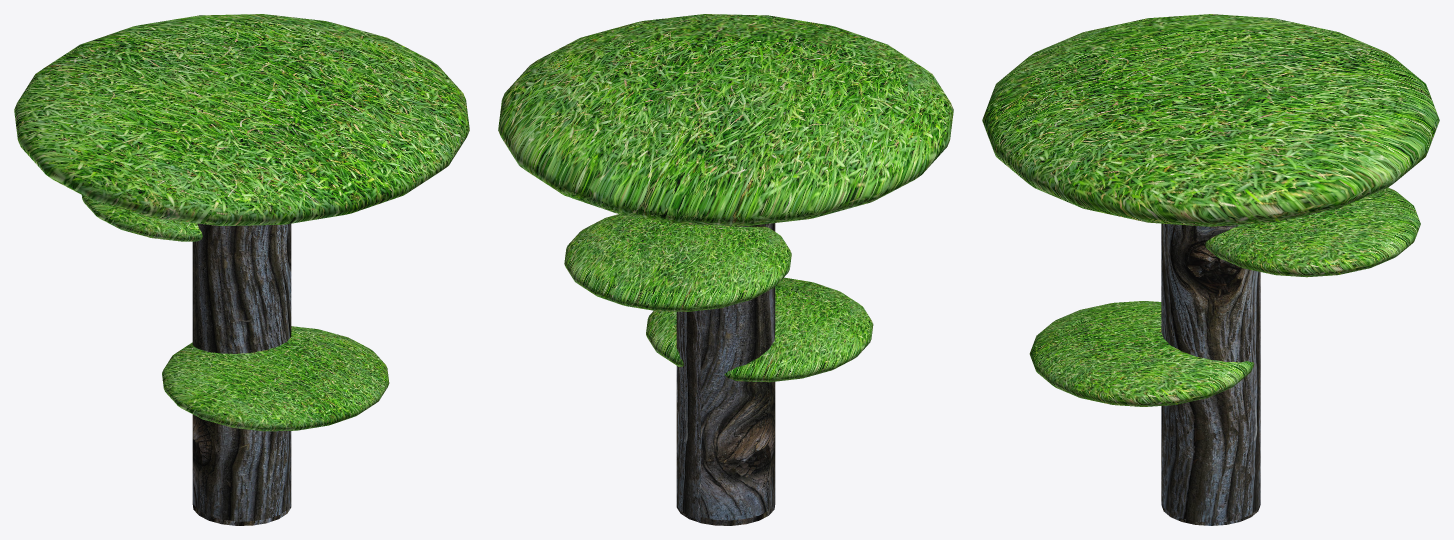
The model's file is ARBOLWUKONG.fbx.
3 views of the same model, side by side, from view 1: azimuth 30°, elevation 25°; view 2: azimuth 150°, elevation 25°; view 3: azimuth 270°, elevation 25° (orthographic).
Parts seen in each view (by area): view 1: pSphere1, pCylinder1, pasted__pSphere1 (×2); view 2: pSphere1, pasted__pSphere1 (×2), pCylinder1; view 3: pSphere1, pasted__pSphere1 (×2), pCylinder1.
Part boxes in pixels (bbox=[...]): pSphere1: bbox=[14, 14, 469, 225]; pCylinder1: bbox=[192, 223, 291, 525]; pasted__pSphere1 (×2): bbox=[81, 195, 389, 431]; pSphere1: bbox=[498, 14, 953, 225]; pasted__pSphere1 (×2): bbox=[564, 214, 873, 382]; pCylinder1: bbox=[676, 223, 775, 525]; pSphere1: bbox=[982, 14, 1439, 226]; pasted__pSphere1 (×2): bbox=[1029, 187, 1420, 406]; pCylinder1: bbox=[1161, 223, 1260, 525].
Size of the model in its own units: 15.67 by 16.21 by 15.67.
